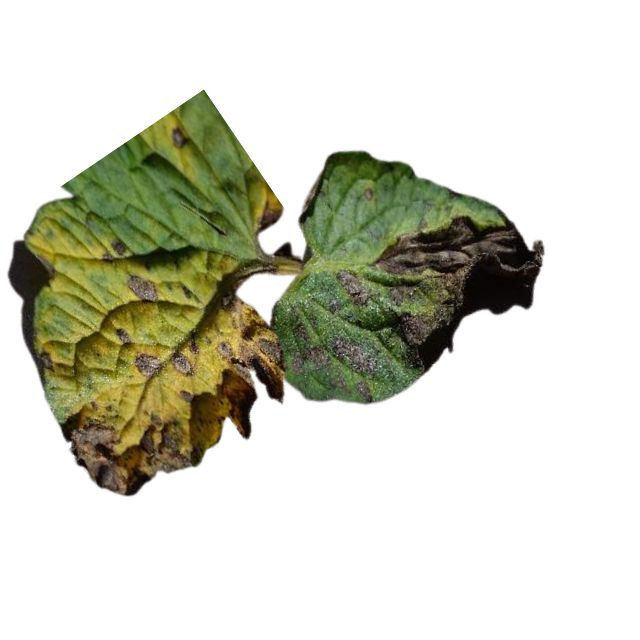Early_blight: (372, 215, 544, 372), (60, 409, 206, 495), (220, 312, 285, 441), (289, 322, 381, 402), (209, 255, 278, 314), (333, 268, 379, 310), (124, 272, 159, 304), (133, 349, 160, 378), (30, 347, 54, 373), (174, 345, 194, 375), (169, 128, 192, 150), (114, 324, 134, 346)
